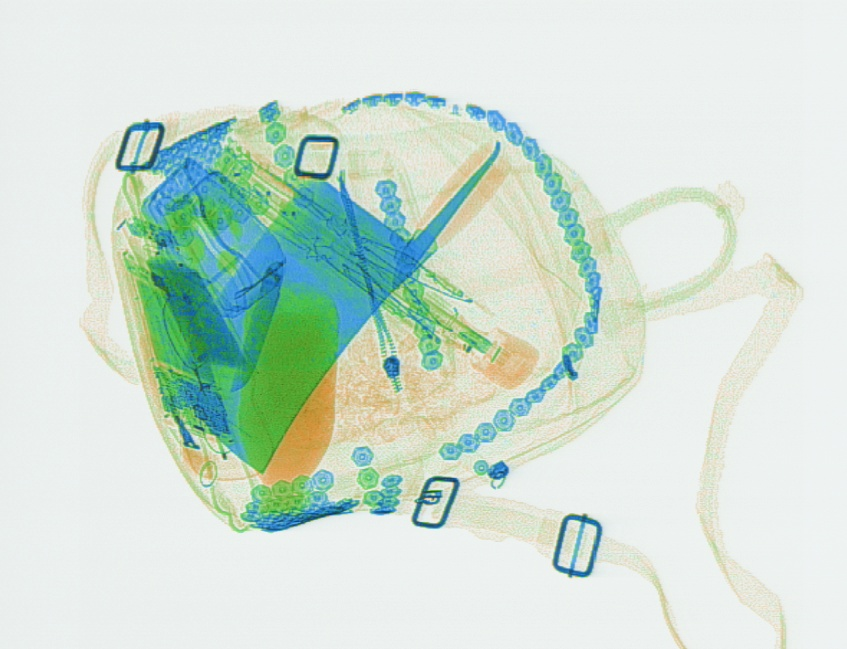knife: (172, 128, 514, 467)
